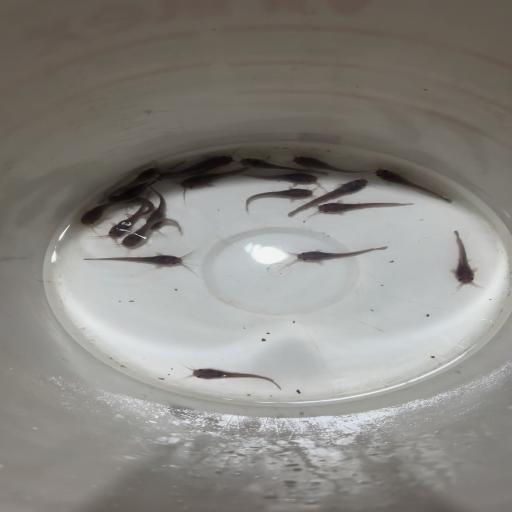lele: (176, 358, 284, 392), (288, 177, 372, 219), (272, 244, 393, 272), (440, 227, 490, 293), (372, 166, 454, 203), (79, 250, 198, 271), (108, 190, 156, 242), (177, 167, 253, 196), (122, 217, 188, 249), (76, 196, 138, 230), (311, 199, 415, 218), (237, 155, 329, 176), (102, 164, 164, 195), (287, 154, 376, 175), (240, 187, 314, 212), (235, 169, 327, 187), (143, 186, 171, 232), (180, 151, 240, 172), (107, 195, 154, 216), (155, 168, 214, 181), (108, 182, 148, 200)
